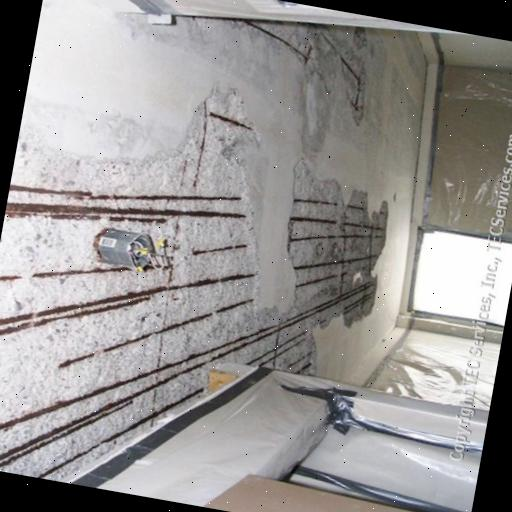spalling: (0, 85, 387, 482), (233, 21, 366, 125)
